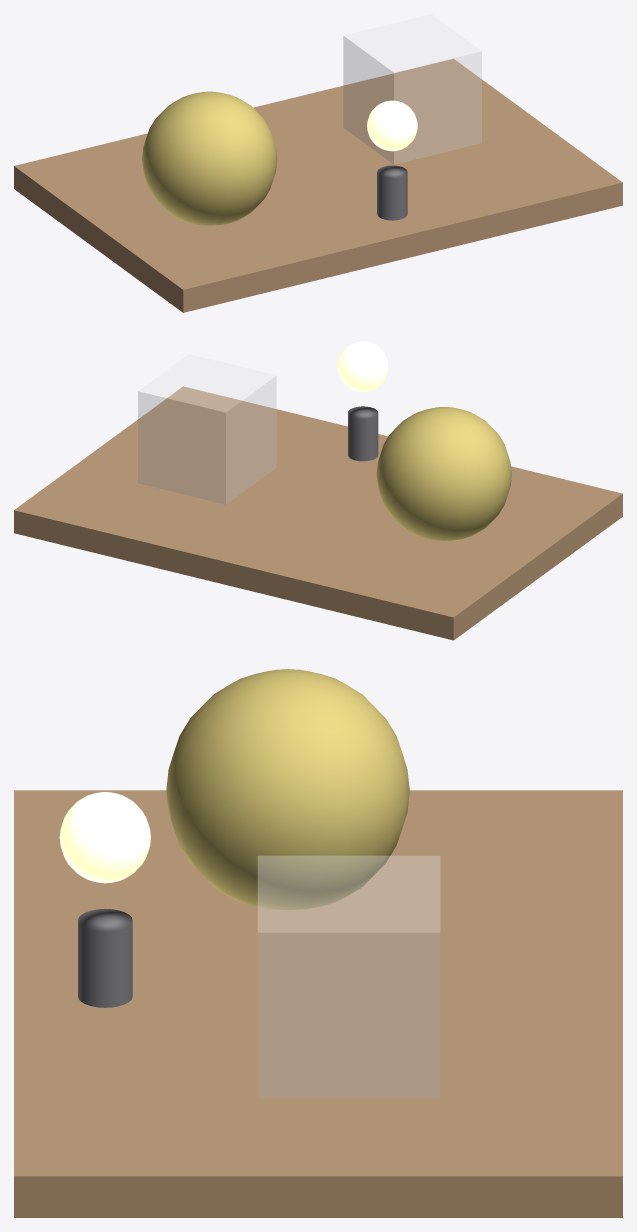
The model's file is still-life.glb.
The picture shows the model from 3 angles, top to bottom: view 1: azimuth 30°, elevation 25°; view 2: azimuth 150°, elevation 25°; view 3: azimuth 270°, elevation 25°; orthographic projection. The views are drawn at different scales.
Parts seen in each view (by area): view 1: box (×2), sphere (×2), cylinder; view 2: box (×2), sphere (×2), cylinder; view 3: box (×2), sphere (×2), cylinder.
Part boxes in pixels (x1,y1,x2,y2): box (×2): (14, 14, 622, 312); sphere (×2): (142, 91, 417, 225); cylinder: (377, 165, 407, 220); box (×2): (14, 354, 622, 640); sphere (×2): (337, 341, 511, 540); cylinder: (348, 406, 378, 461); box (×2): (14, 790, 622, 1217); sphere (×2): (59, 669, 409, 910); cylinder: (78, 909, 132, 1007).
Bounding box in the file's own units: 6 × 1.8 × 4.
